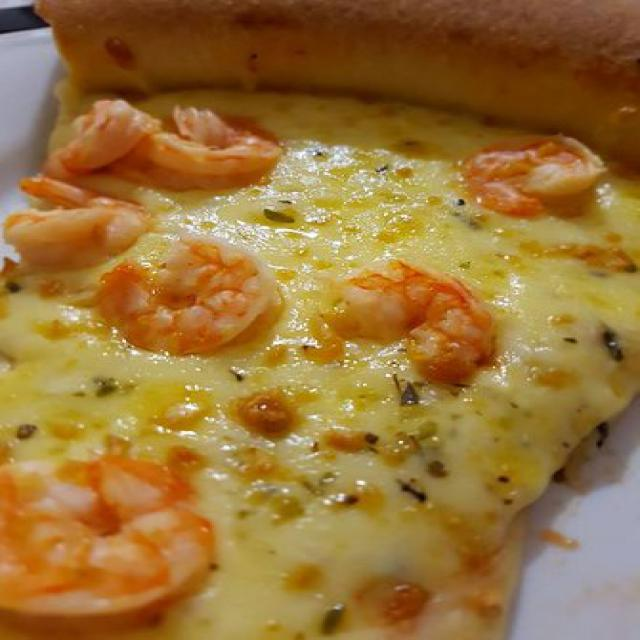camarao: (0, 456, 216, 623), (92, 241, 291, 363), (314, 262, 496, 392), (59, 107, 289, 191), (0, 172, 144, 264), (470, 128, 602, 216)
pizza: (0, 0, 638, 639)
